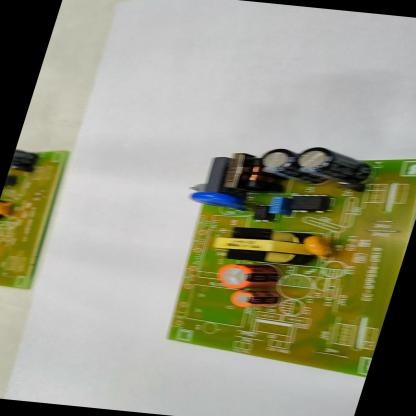Cap1: (206, 260, 284, 294)
Cap2: (223, 288, 285, 312)
Cap3: (256, 146, 298, 183)
Cap4: (289, 143, 377, 186)
MOSFET: (286, 191, 332, 215)
Mov: (184, 191, 249, 210)
Resistor: (187, 182, 210, 194)
Transformer: (206, 222, 317, 266), (217, 150, 286, 193)
